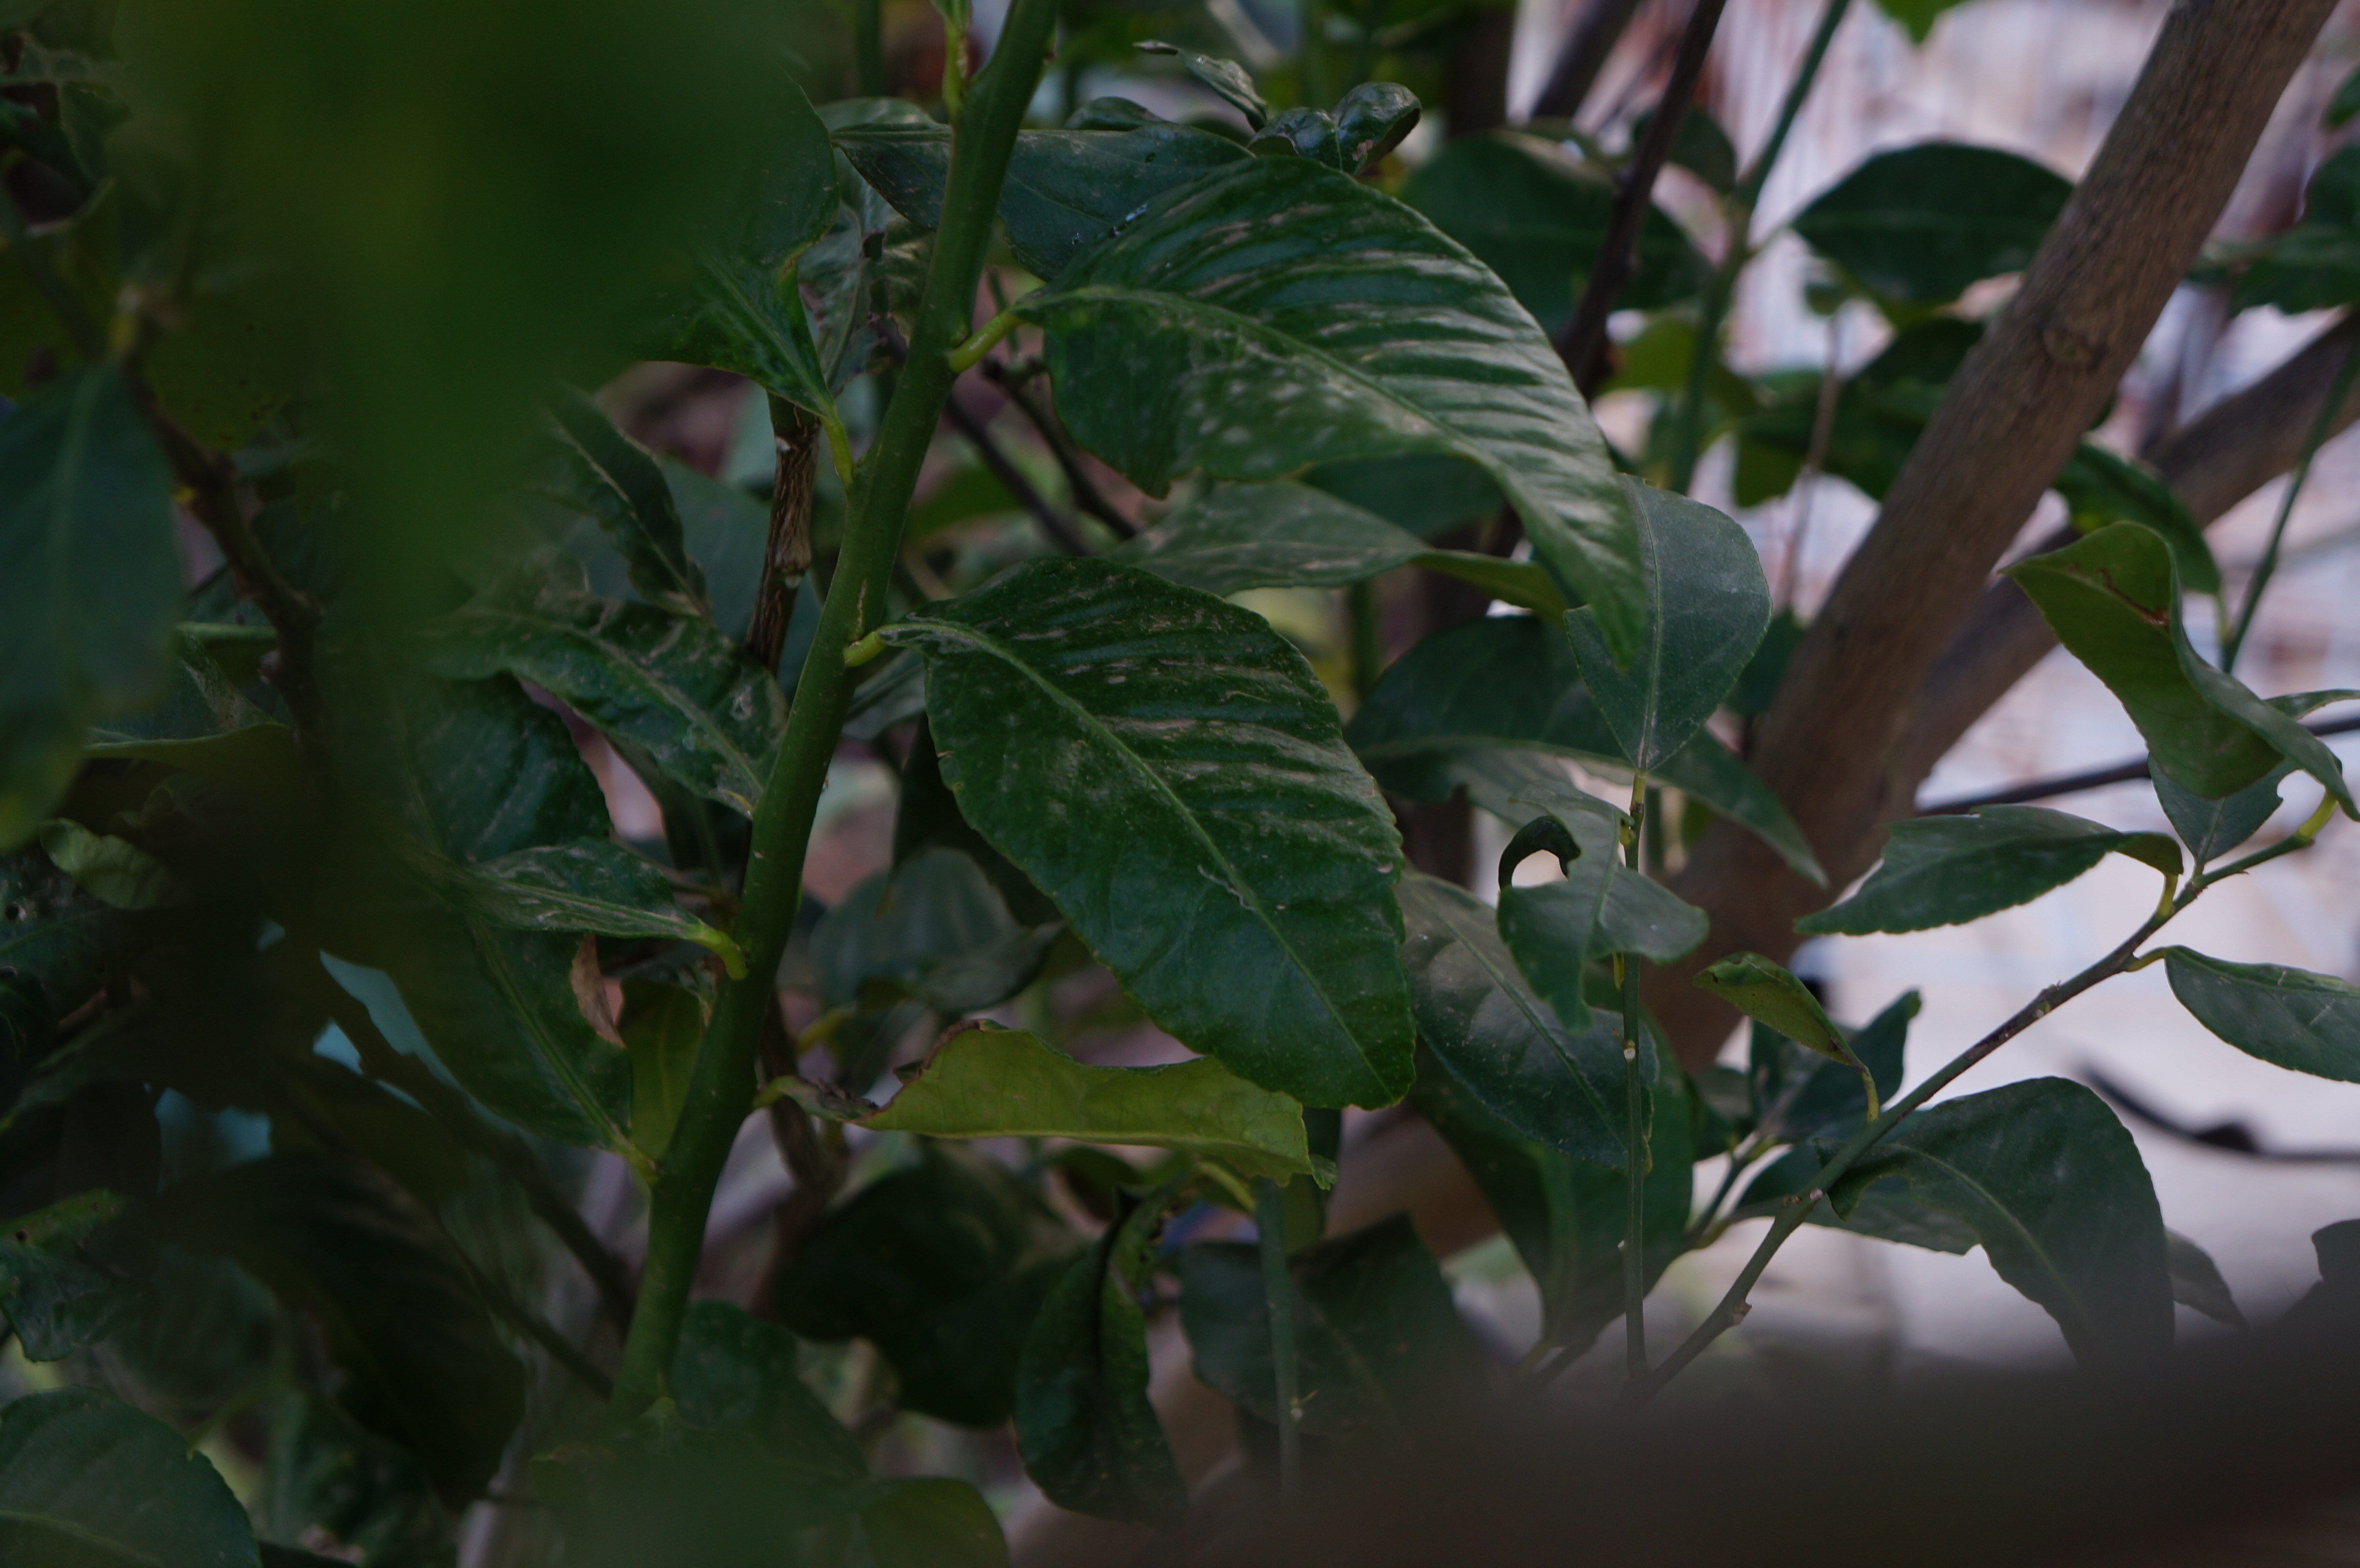curly: (852, 1003, 1361, 1209)
